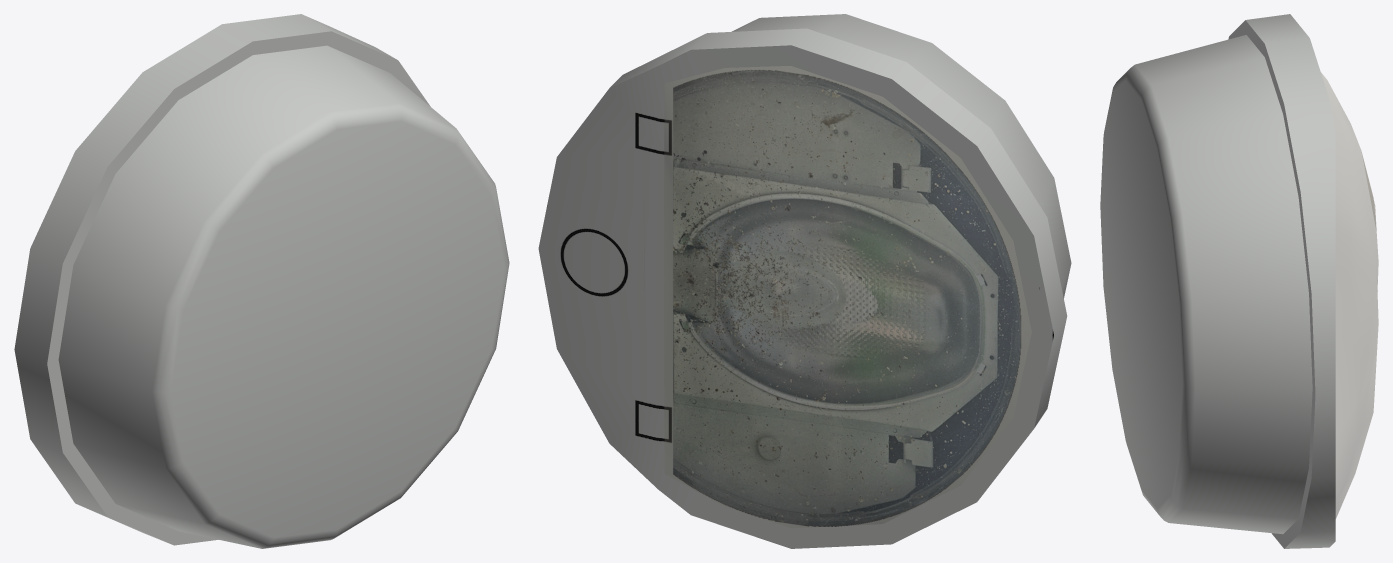
File: Kleine_Runde.obj
3 views of the same model, side by side, from view 1: azimuth 30°, elevation 25°; view 2: azimuth 150°, elevation 25°; view 3: azimuth 270°, elevation 25° (orthographic). The views are drawn at different scales.
Parts seen in each view (by area): view 1: BezierCurve.002; view 2: BezierCurve.002, BezierCurve.003; view 3: BezierCurve.002, BezierCurve.003.
Boxes of the visible parts, <box> form: BezierCurve.002: <box>14,14,509,548</box>; BezierCurve.002: <box>538,14,1071,548</box>; BezierCurve.003: <box>664,66,1031,527</box>; BezierCurve.002: <box>1100,14,1335,548</box>; BezierCurve.003: <box>1321,72,1378,518</box>.
Size of the model in its own units: 0.4372 by 0.44 by 0.2286.
Materials: 3 (2 with a texture image).
